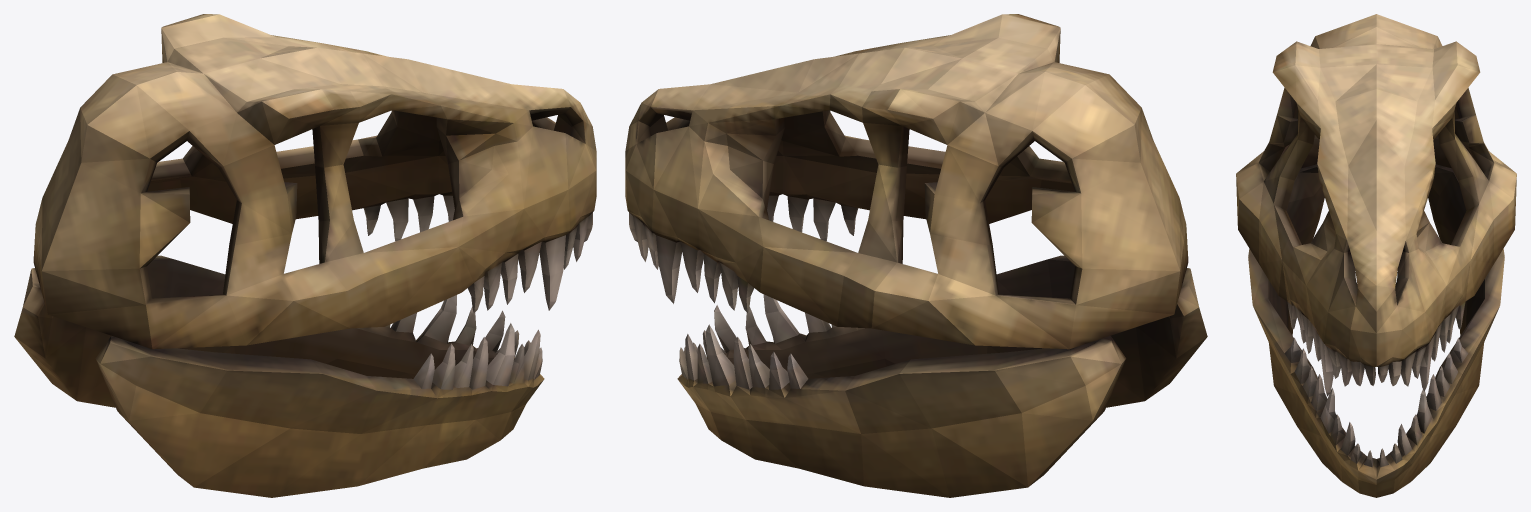
File: DINO FOSSIL HAT.fbx
3 views of the same model, side by side, from view 1: azimuth 30°, elevation 25°; view 2: azimuth 150°, elevation 25°; view 3: azimuth 270°, elevation 25° (orthographic). The views are drawn at different scales.
Visible parts, largest first — view 1: DINO_FOSSIL_HAT; view 2: DINO_FOSSIL_HAT; view 3: DINO_FOSSIL_HAT.
Boxes of the visible parts, <box> form: DINO_FOSSIL_HAT: <box>14,14,596,497</box>; DINO_FOSSIL_HAT: <box>625,14,1207,497</box>; DINO_FOSSIL_HAT: <box>1236,14,1516,497</box>.
Size of the model in its own units: 55.12 by 41 by 30.46.
